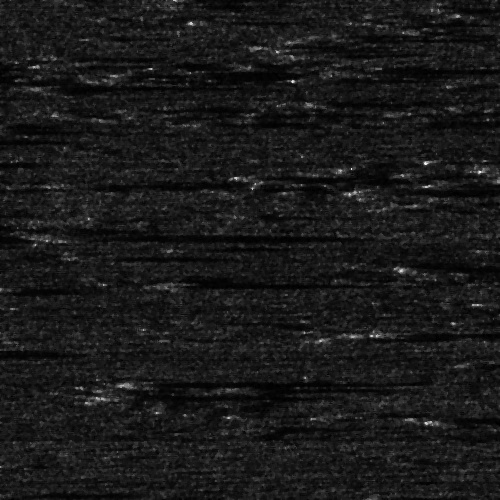object: (22, 177, 147, 190), (140, 119, 245, 128), (200, 171, 293, 180), (0, 81, 82, 90), (96, 387, 137, 400), (323, 68, 354, 83), (340, 185, 403, 192), (0, 489, 44, 498), (367, 327, 408, 336), (0, 285, 39, 294), (129, 280, 192, 285), (37, 231, 78, 238), (384, 414, 425, 421), (123, 376, 154, 385), (475, 298, 496, 307), (74, 253, 127, 256), (297, 98, 338, 101), (215, 386, 256, 389)
shadow: (139, 376, 416, 385), (117, 387, 302, 400), (57, 231, 366, 238), (84, 177, 219, 190), (36, 81, 211, 90), (338, 68, 437, 83), (247, 171, 388, 180), (0, 489, 130, 498), (3, 285, 132, 294), (388, 327, 500, 336), (0, 132, 72, 145), (161, 280, 346, 285), (372, 185, 500, 192), (193, 119, 286, 128), (405, 414, 500, 421), (0, 227, 30, 244), (318, 98, 465, 101), (0, 347, 47, 356), (101, 253, 236, 256), (236, 386, 284, 389), (486, 298, 500, 307)
